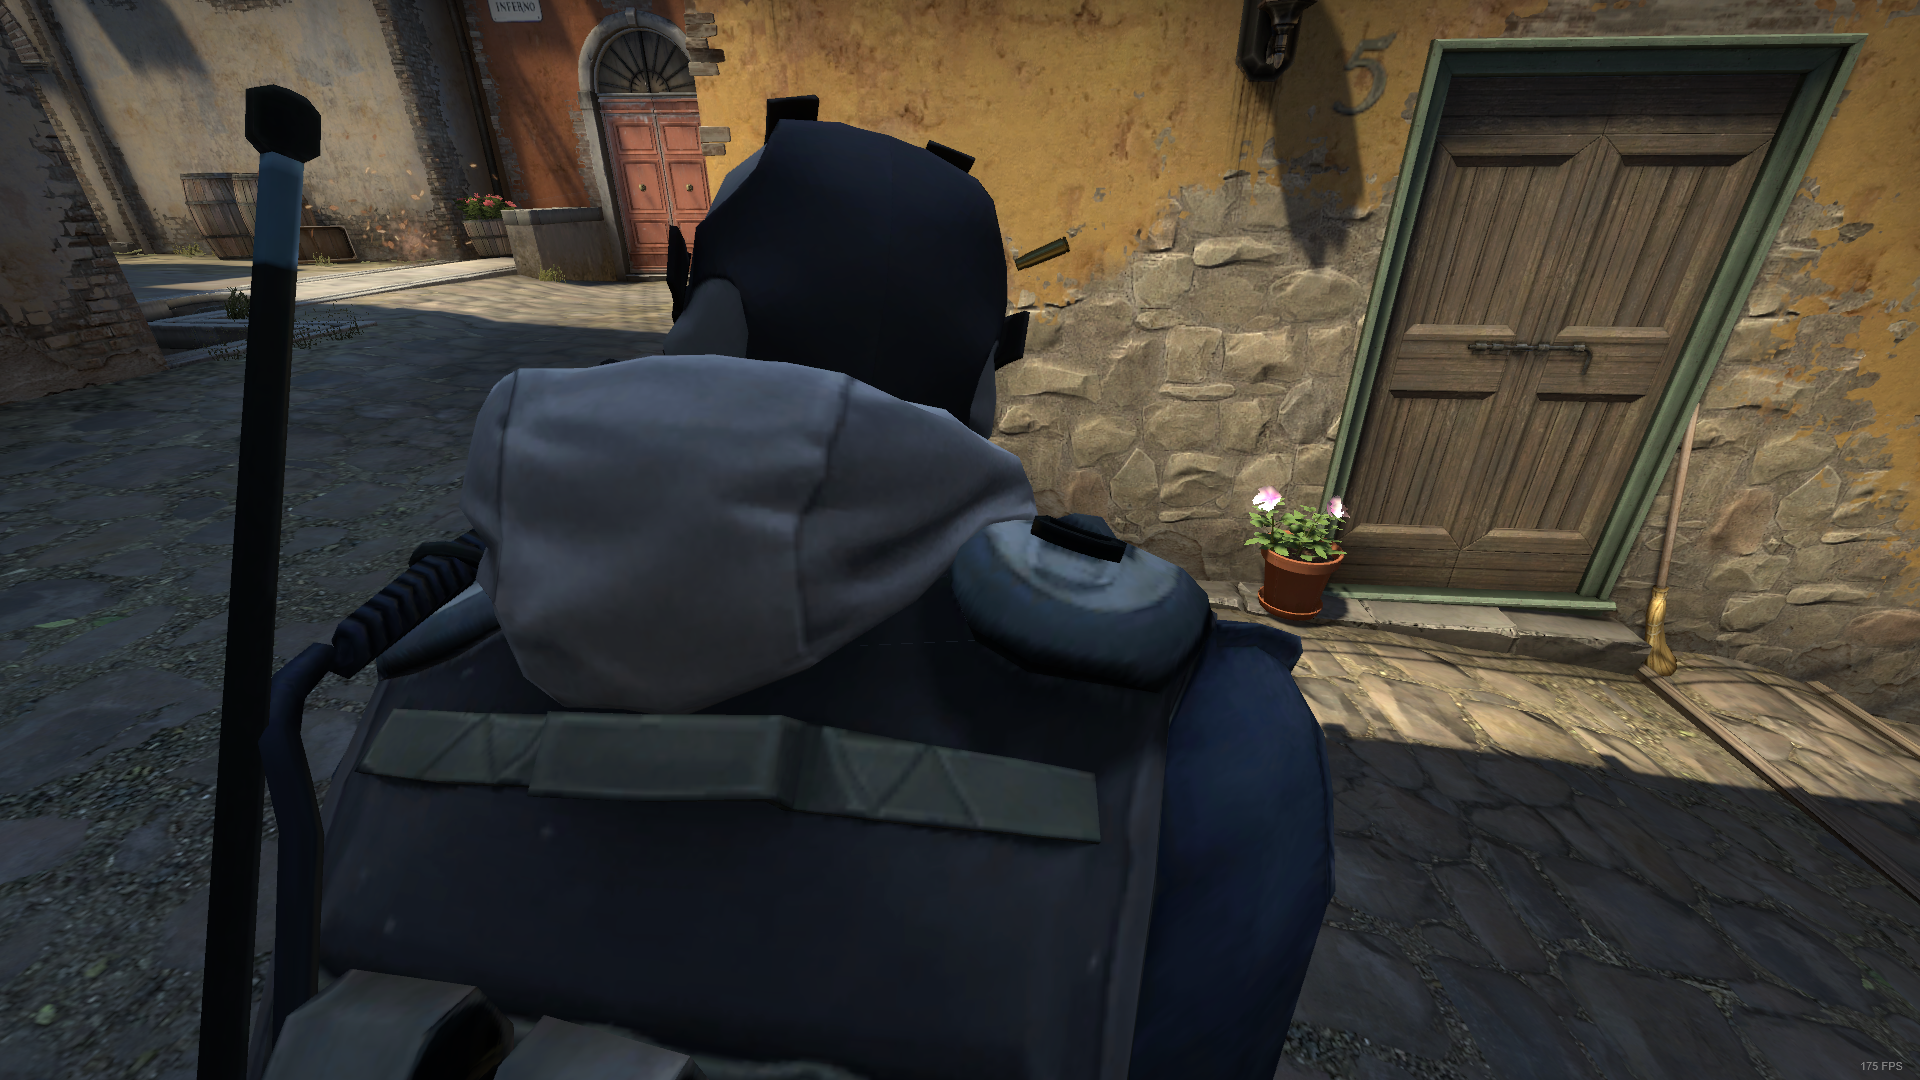ct: (138, 86, 1381, 1080)
